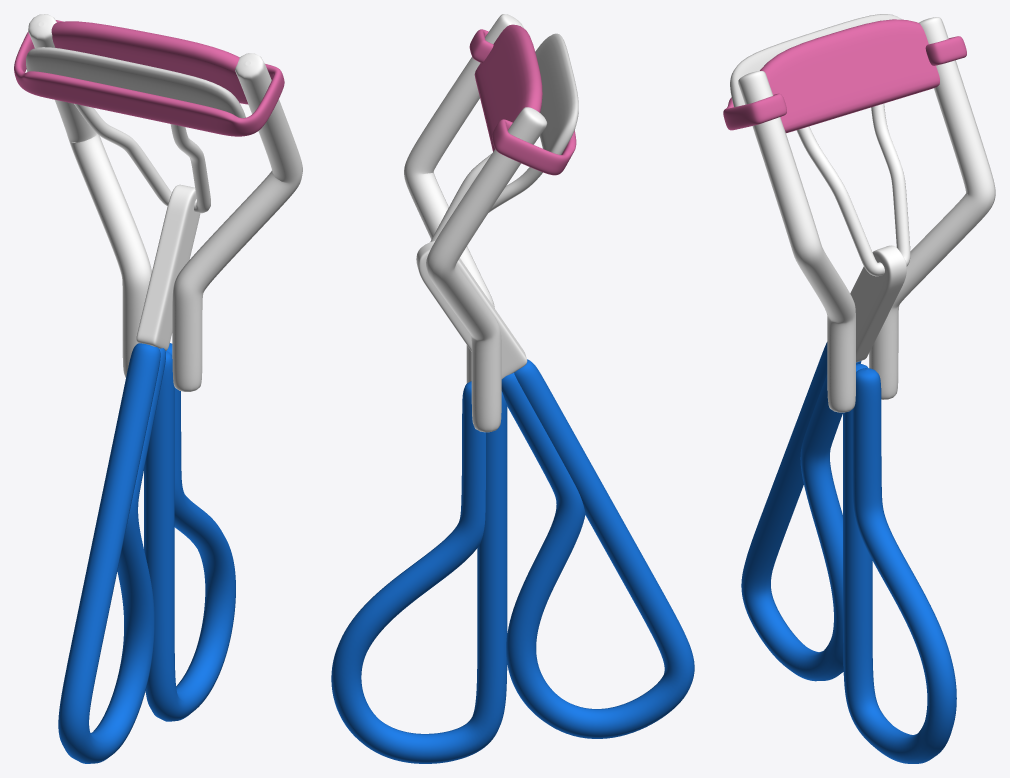
File: eyelash-curler-3d-animated-icon-1176119924769.glb
3 renders of one model, left to right at view 1: azimuth 30°, elevation 25°; view 2: azimuth 150°, elevation 25°; view 3: azimuth 270°, elevation 25°, orthographic. The views are drawn at different scales.
Visible parts, largest first — view 1: Plane.040, NurbsPath.008, NurbsPath.010, Cube.020; view 2: Plane.040, NurbsPath.008, NurbsPath.010, Cube.020; view 3: Plane.040, NurbsPath.008, NurbsPath.010, Cube.020.
Part boxes in pixels (left/top/right/bottom): Plane.040: left=28, top=14, right=302, bottom=721; NurbsPath.008: left=58, top=343, right=165, bottom=763; NurbsPath.010: left=14, top=20, right=284, bottom=213; Cube.020: left=136, top=184, right=200, bottom=350; Plane.040: left=331, top=14, right=547, bottom=763; NurbsPath.008: left=501, top=359, right=694, bottom=738; NurbsPath.010: left=430, top=29, right=578, bottom=241; Cube.020: left=416, top=241, right=527, bottom=378; Plane.040: left=738, top=17, right=995, bottom=763; NurbsPath.008: left=741, top=342, right=861, bottom=681; NurbsPath.010: left=723, top=14, right=966, bottom=276; Cube.020: left=850, top=245, right=906, bottom=362.
Size of the model in its own units: 1.79 by 4.54 by 1.62.
